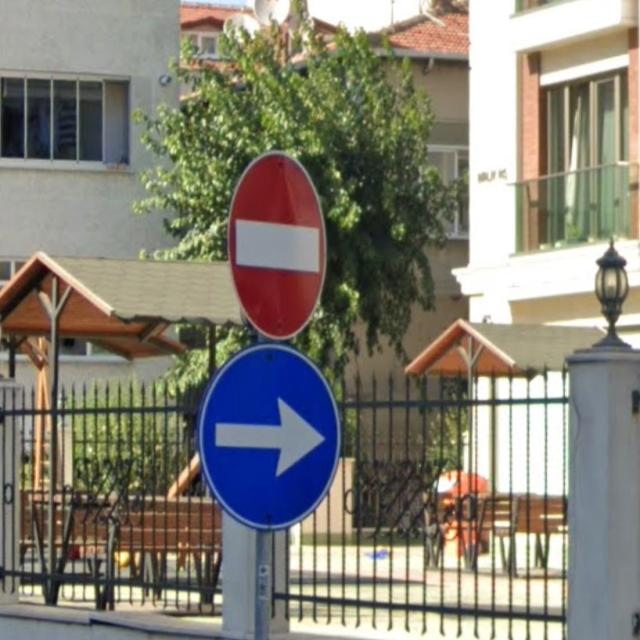girisyok: (228, 153, 328, 339)
sag: (196, 344, 340, 530)
